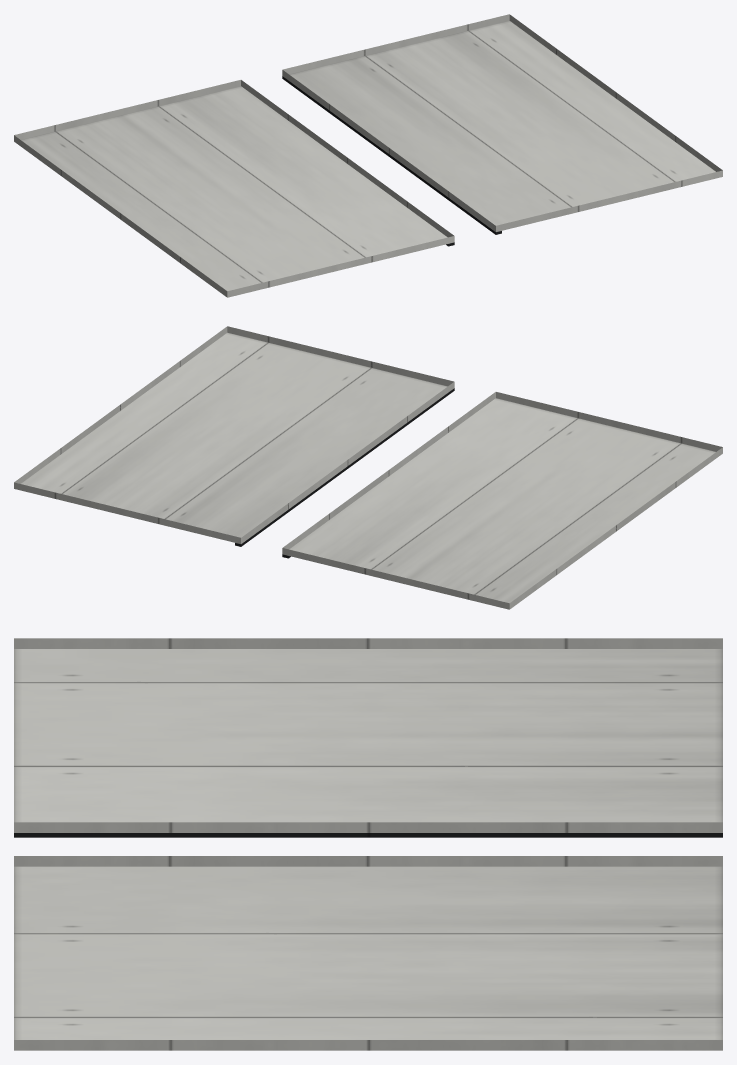
The model's file is SM_LFD_CorridorCeiling.fbx.
3 renders of one model, top to bottom at view 1: azimuth 30°, elevation 25°; view 2: azimuth 150°, elevation 25°; view 3: azimuth 270°, elevation 25°, orthographic. The views are drawn at different scales.
Visible parts, largest first — view 1: SM_LFD_CorridorCeiling; view 2: SM_LFD_CorridorCeiling; view 3: SM_LFD_CorridorCeiling.
Part boxes in pixels (<box>): SM_LFD_CorridorCeiling: <box>14,14,722,297</box>; SM_LFD_CorridorCeiling: <box>14,326,722,609</box>; SM_LFD_CorridorCeiling: <box>14,638,722,1050</box>.
Size of the model in its own units: 4.8 by 0.085 by 3.58.
